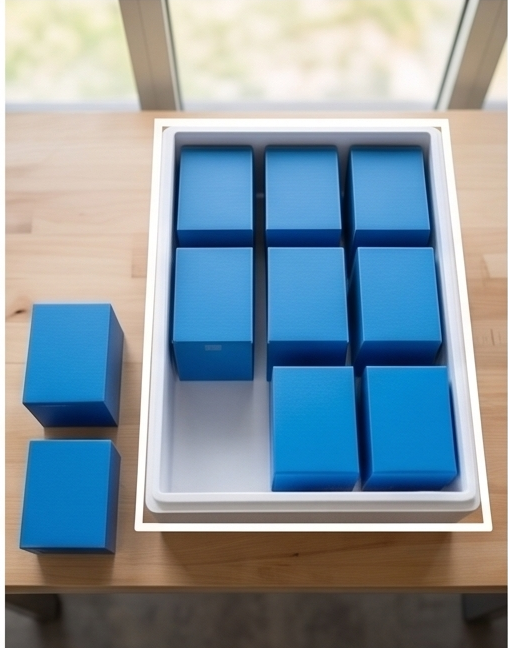blue_box: (22, 303, 125, 428), (357, 365, 457, 491), (348, 249, 443, 377), (18, 439, 121, 556), (270, 365, 359, 492), (266, 247, 348, 382), (172, 248, 253, 381), (344, 146, 430, 248), (173, 145, 254, 250), (265, 143, 342, 248)
container_box: (135, 117, 492, 532)
